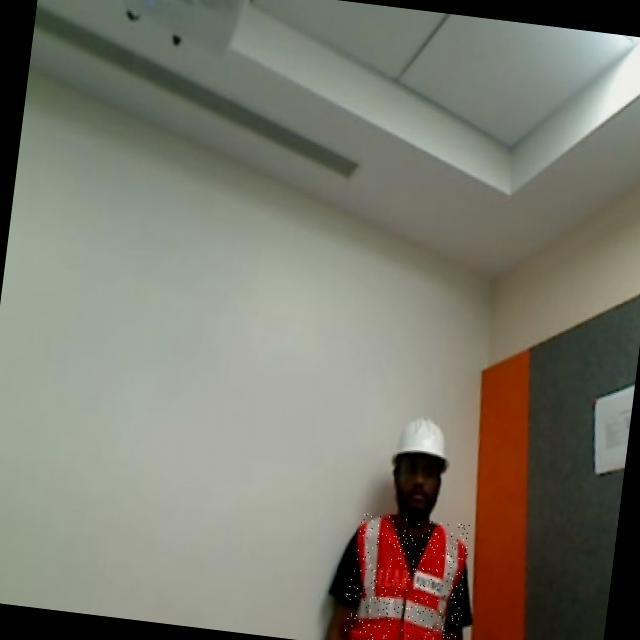helmet: (385, 409, 457, 480)
vest: (339, 511, 472, 640)
